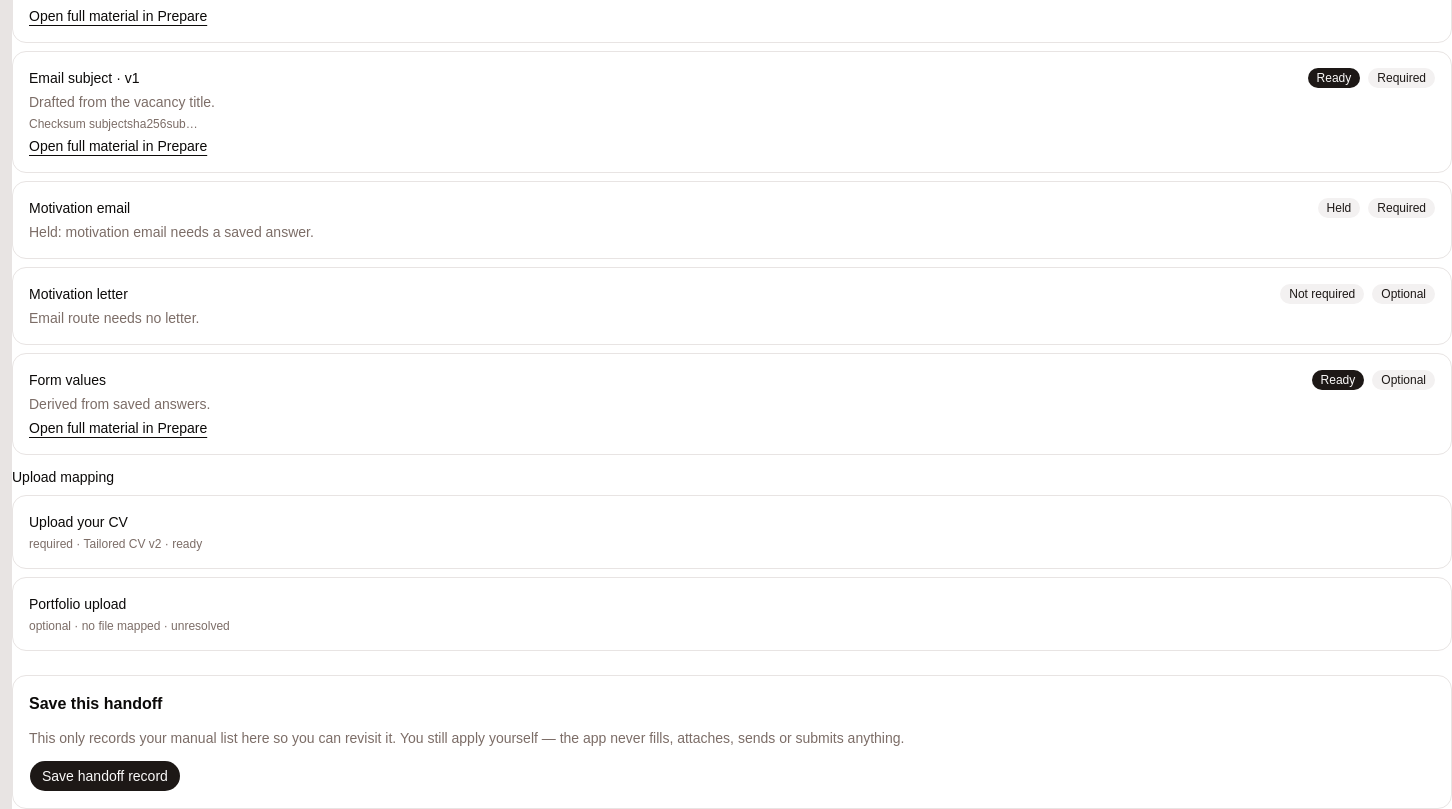
HandoffPage › reports a handoff conflict without claiming a save
(page scrolled)
Click the button "Save handoff record". click: (105, 776)
box: [29, 760, 181, 792]
(page scrolled)
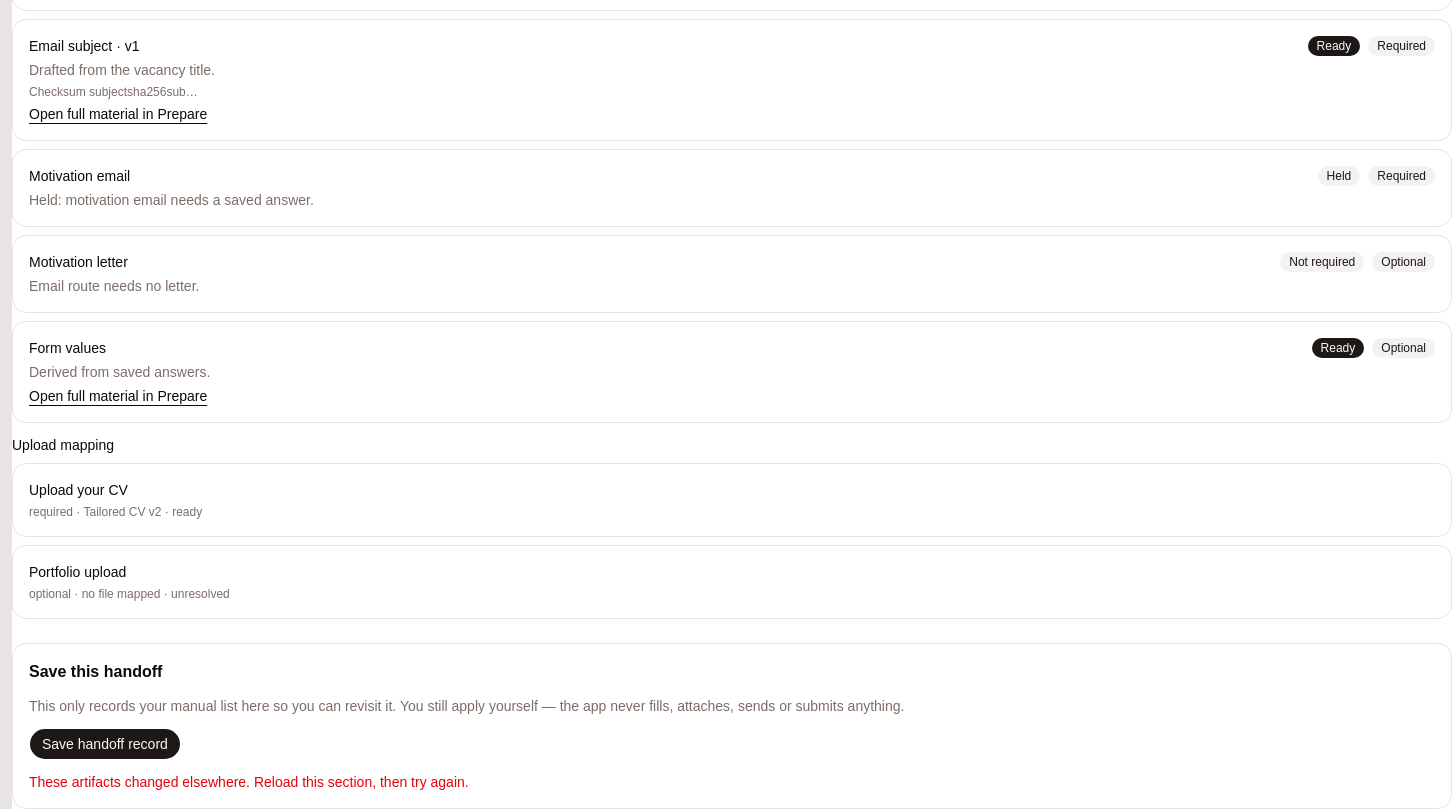
Expected: the text "These artifacts changed elsewhere. Reload this section, then try again." is shown, [29, 774, 469, 790]
